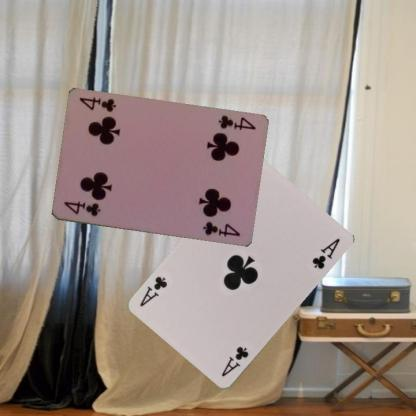4c: (61, 198, 102, 218), (216, 113, 256, 132)
Ac: (219, 344, 250, 378)
